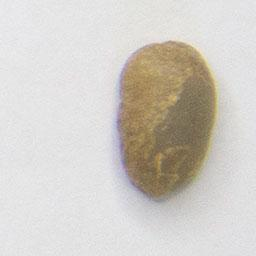longberry: (113, 35, 220, 204)
